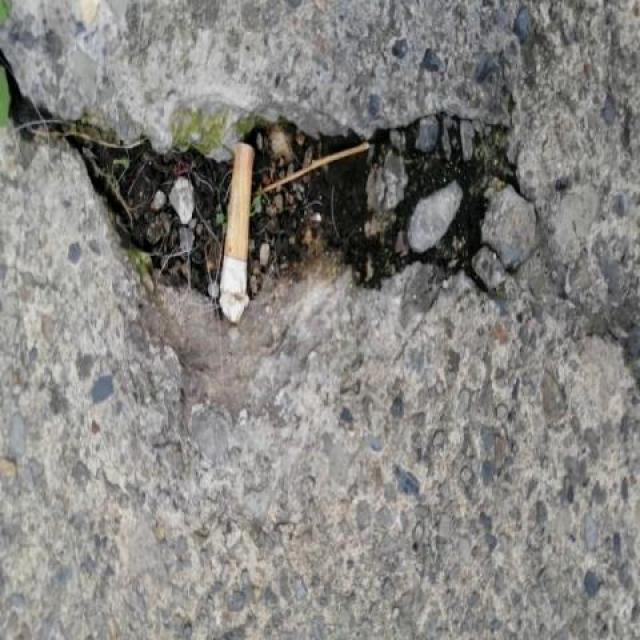non-organic waste: (217, 136, 263, 329)
